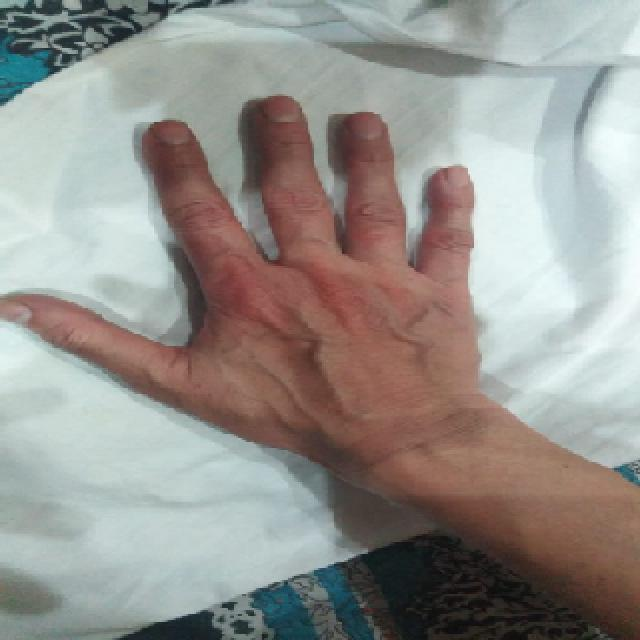Nail: (258, 96, 302, 121), (150, 120, 192, 146), (349, 112, 383, 140), (0, 298, 31, 325), (444, 166, 471, 189)
